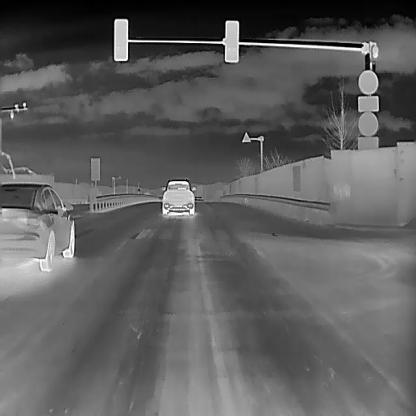car: (0, 180, 74, 270), (160, 176, 196, 214)
